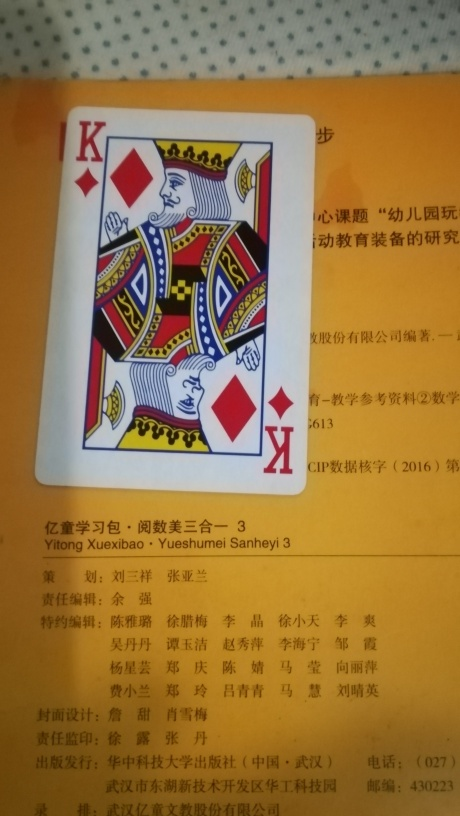fk k: (33, 105, 318, 493)
